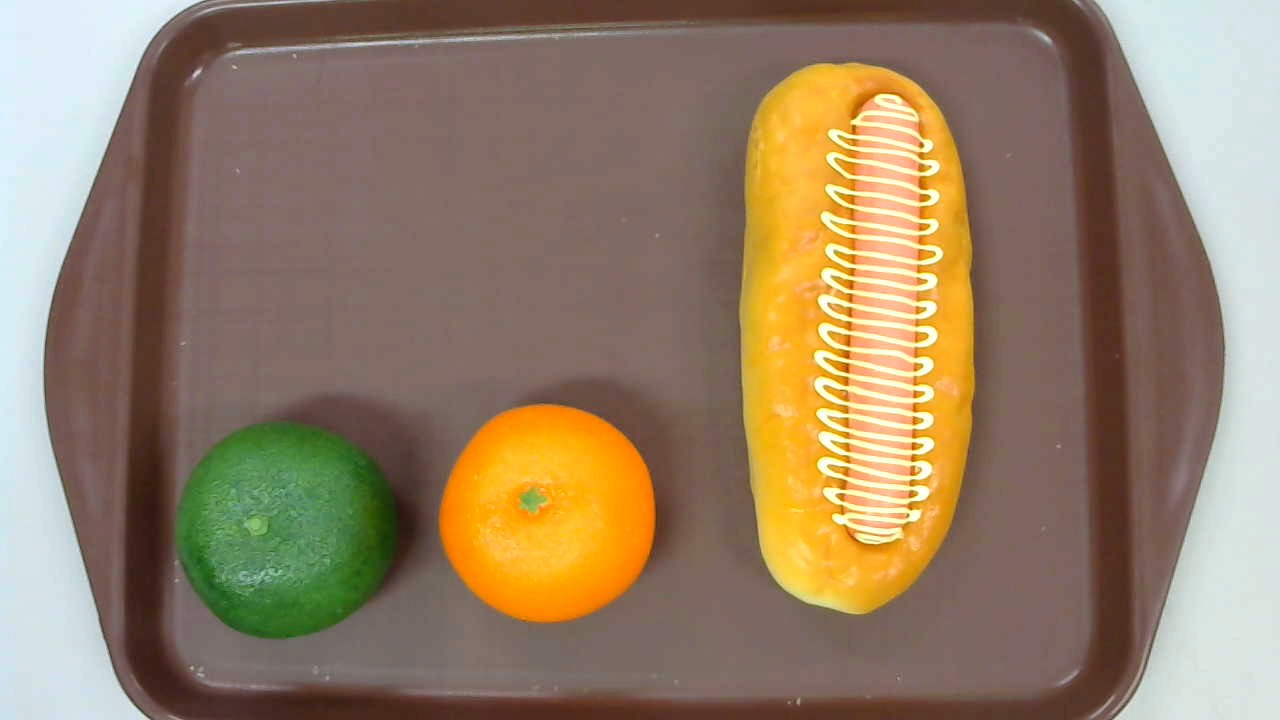green orange: (174, 422, 399, 639)
hot dog: (737, 63, 976, 618)
orange: (437, 403, 657, 622)
